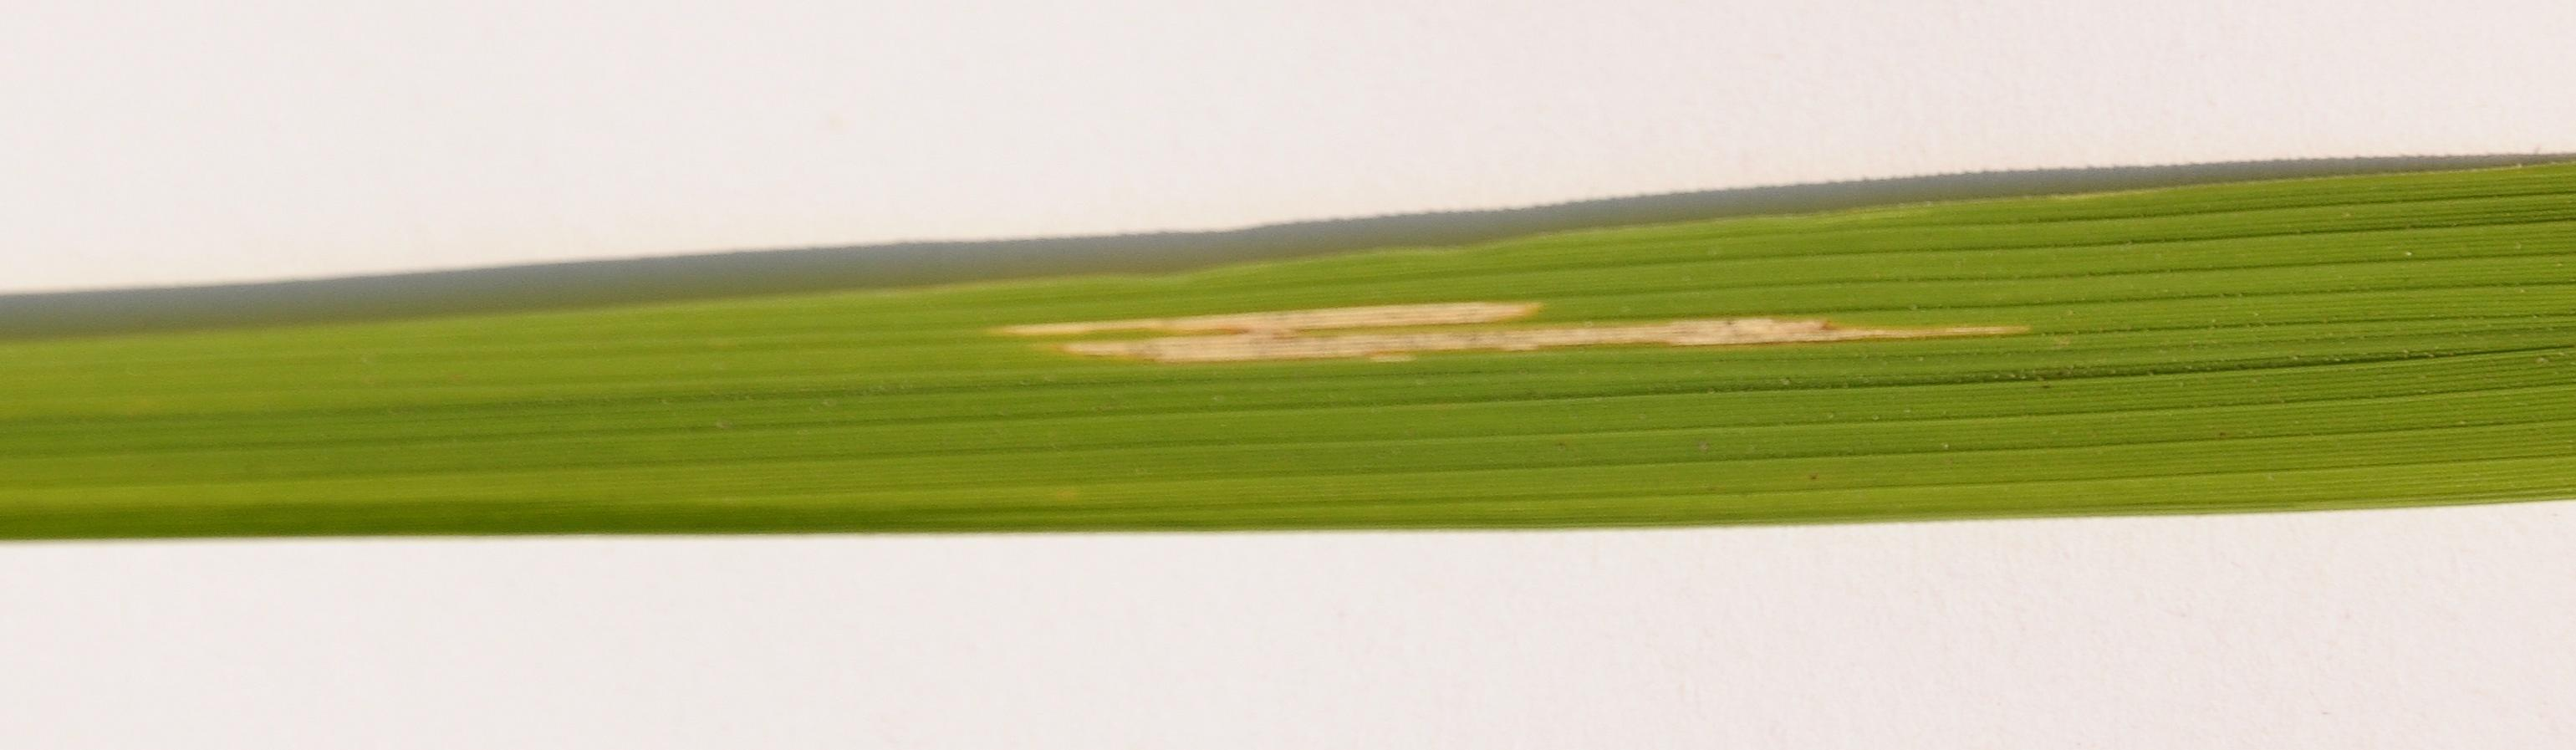bacterial_leaf_blight: (964, 284, 2037, 405)
